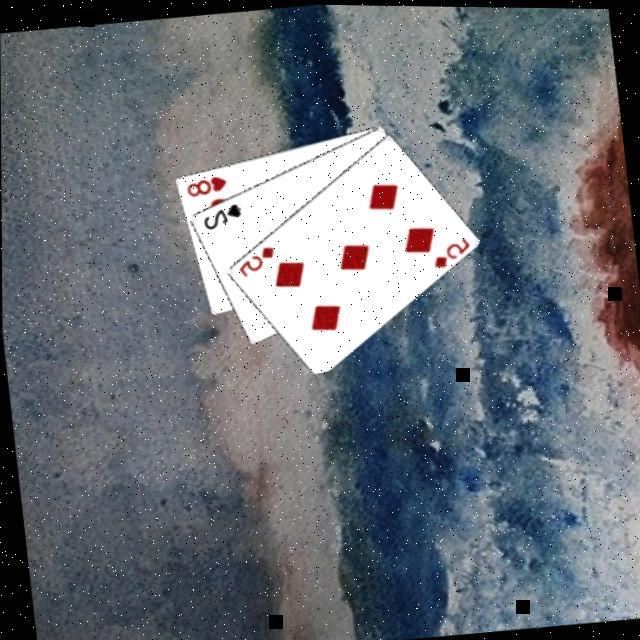2S: (196, 196, 243, 232)
5D: (231, 238, 278, 278), (426, 229, 472, 268)
8H: (180, 168, 228, 198)
